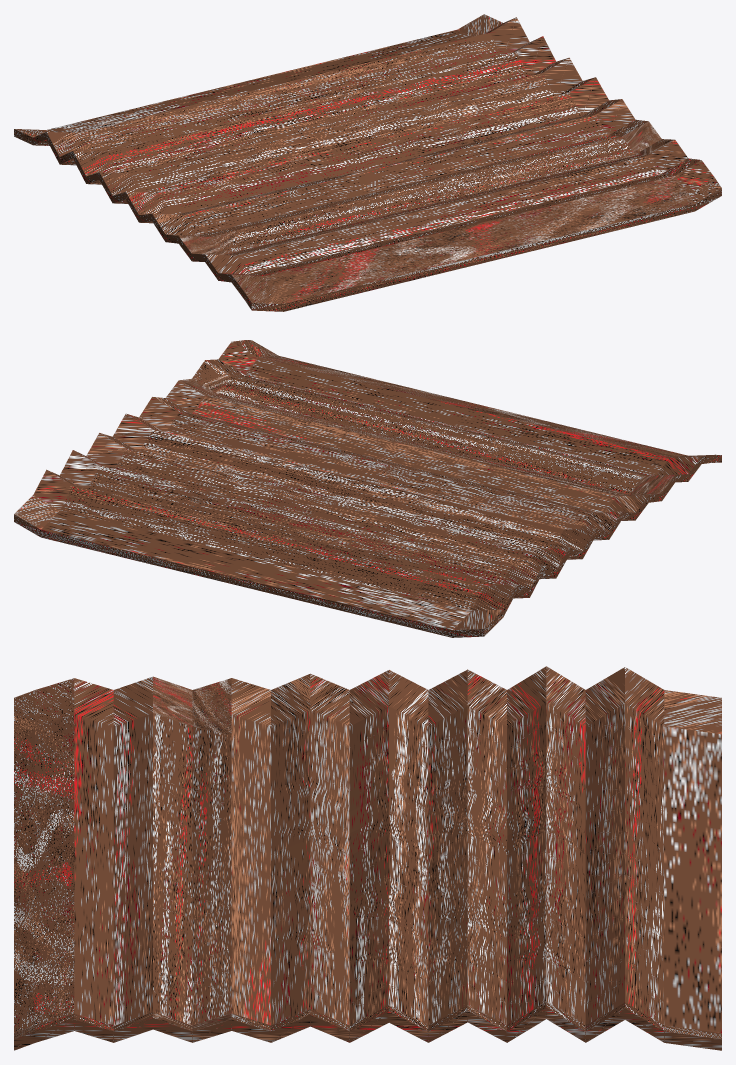
Rendered from fence.1fbx.fbx.
The picture shows the model from 3 angles, top to bottom: view 1: azimuth 30°, elevation 25°; view 2: azimuth 150°, elevation 25°; view 3: azimuth 270°, elevation 25°; orthographic projection. The views are drawn at different scales.
Parts seen in each view (by area): view 1: Cube; view 2: Cube; view 3: Cube.
Part boxes in pixels (x1,y1,x2,y2): Cube: (14, 14, 721, 311); Cube: (14, 340, 721, 637); Cube: (14, 666, 721, 1050).
Size of the model in its own units: 1571 by 121 by 1377.
1 material, 1 textured.
